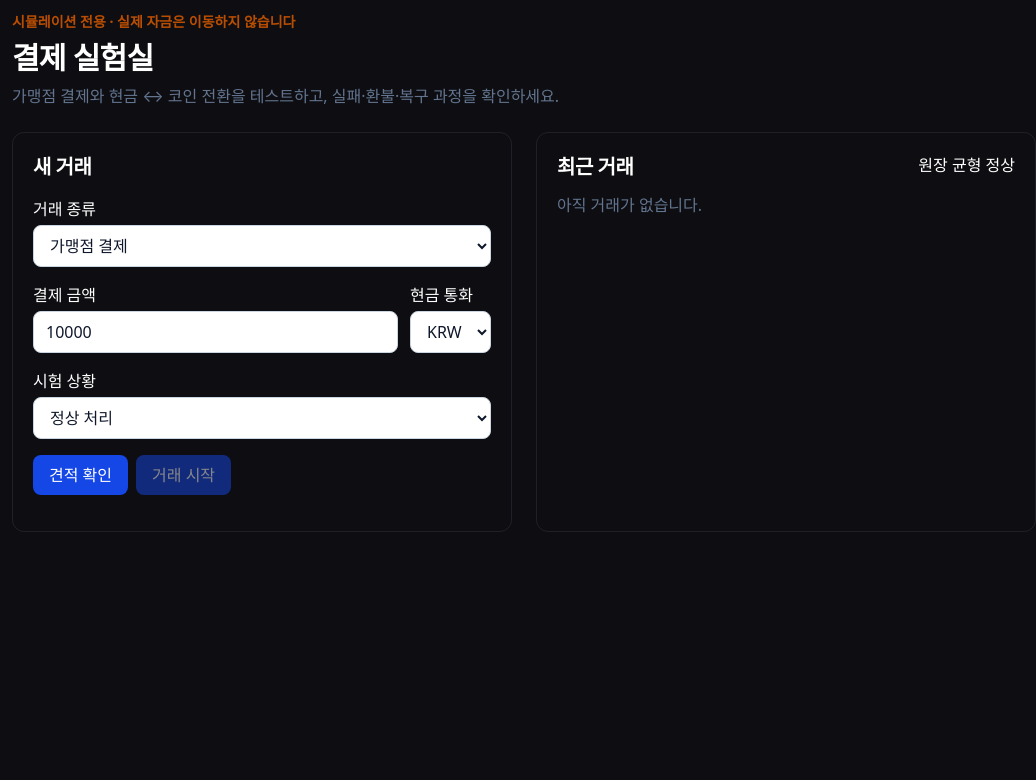
Scenario: payment lab › shows simulation clearly and creates an idempotent order from a quote
The width and height of the screenshot is (1036, 780).
Expected: the text "시뮬레이션 전용 · 실제 자금은 이동하지 않습니다" is shown, [12, 12, 295, 31]
Click the button "견적 확인".
click(80, 475)  # box [33, 455, 128, 495]
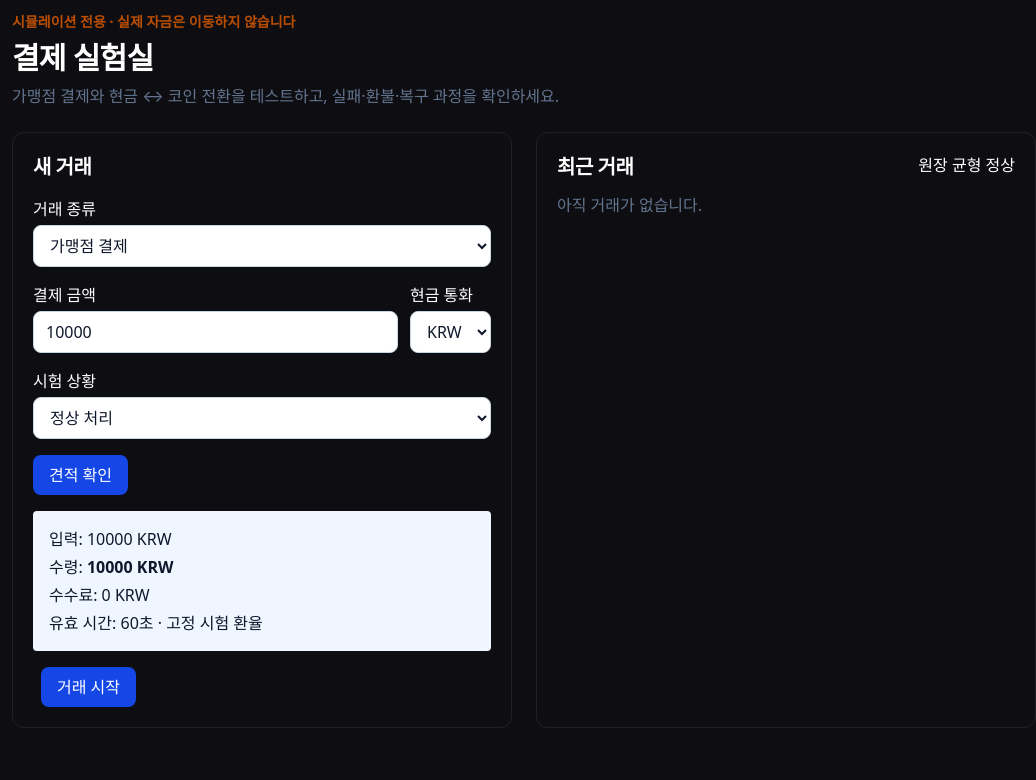
Expected: the text "수수료: 0 KRW" is shown, [49, 584, 150, 606]
Click the button "거래 시작".
click(88, 687)  # box [41, 667, 136, 707]
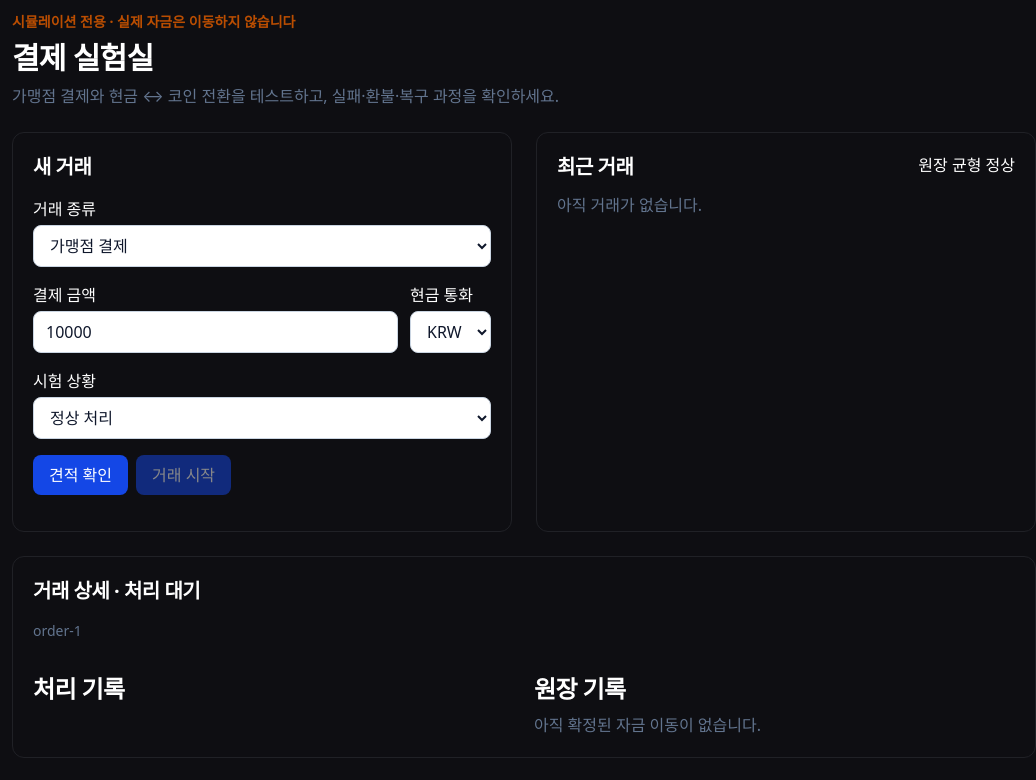
Expected: the heading "거래 상세 · 처리 대기" is shown, [33, 577, 200, 604]
